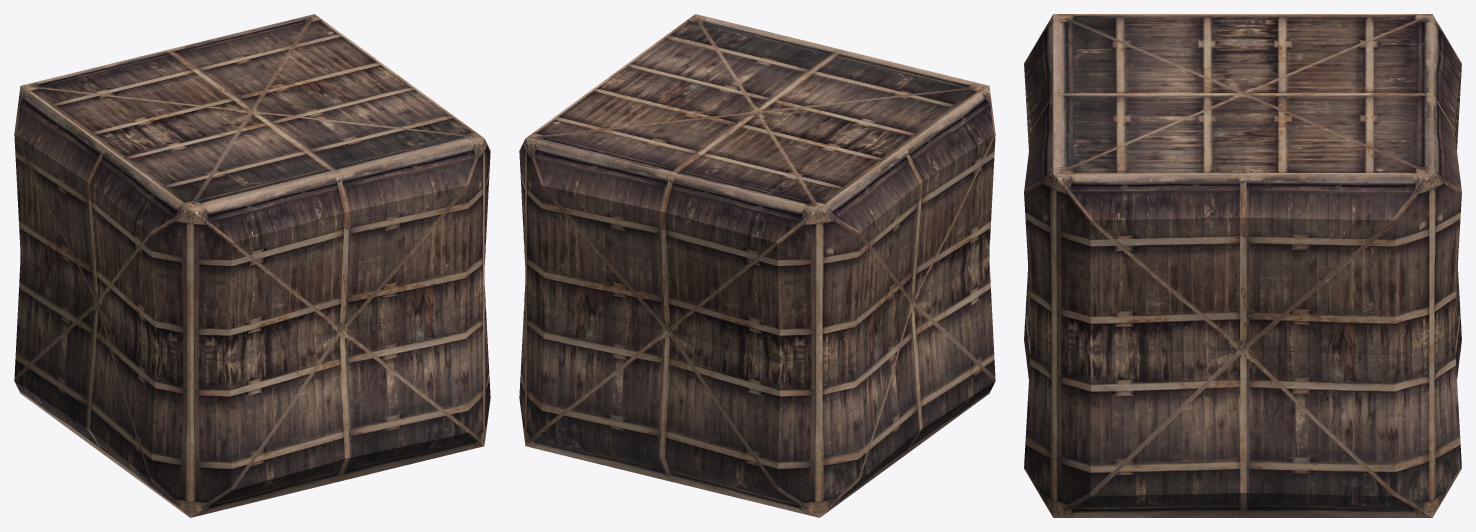
The model's file is mycube.obj.
3 views of the same model, side by side, from view 1: azimuth 30°, elevation 25°; view 2: azimuth 150°, elevation 25°; view 3: azimuth 270°, elevation 25° (orthographic). The views are drawn at different scales.
Parts seen in each view (by area): view 1: Cube; view 2: Cube; view 3: Cube.
Boxes of the visible parts, <box> form: Cube: <box>14,14,490,517</box>; Cube: <box>519,14,995,517</box>; Cube: <box>1024,14,1461,517</box>.
Bounding box in the file's own units: 2.31 × 2 × 2.31.
